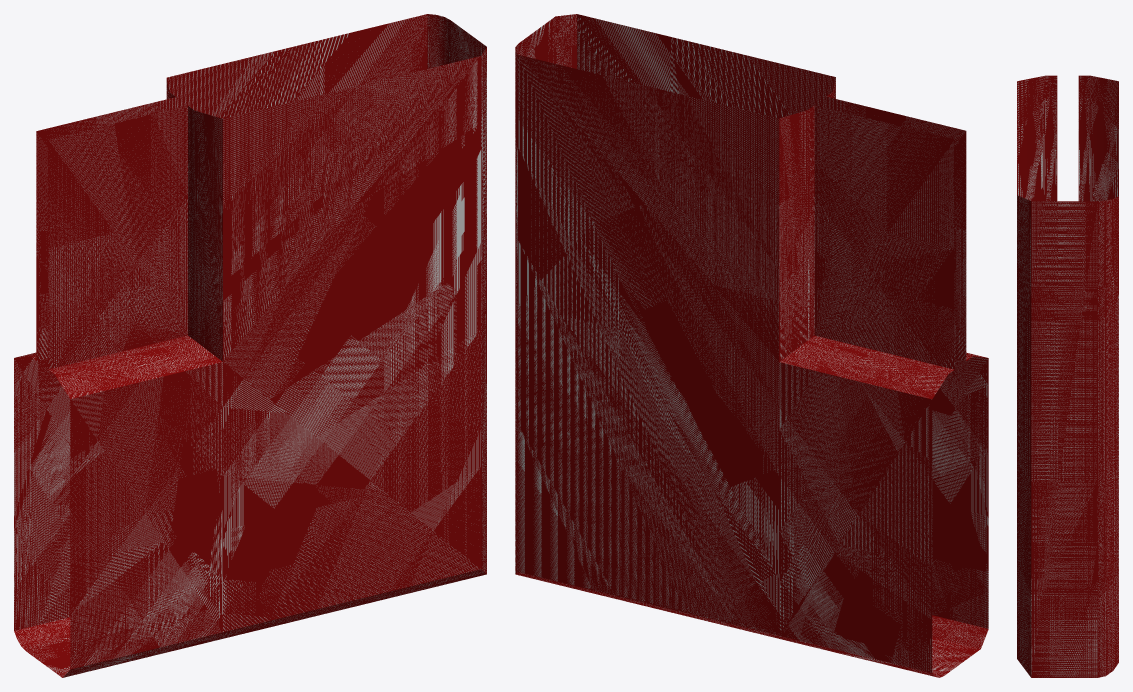
The model's file is original-44.obj.
3 renders of one model, left to right at view 1: azimuth 30°, elevation 25°; view 2: azimuth 150°, elevation 25°; view 3: azimuth 270°, elevation 25°, orthographic. The views are drawn at different scales.
Visible parts, largest first — view 1: RT_21_BR1/RT_21_BR/mesh35/mesh35-geometry#mesh35-geometry; view 2: RT_21_BR1/RT_21_BR/mesh35/mesh35-geometry#mesh35-geometry; view 3: RT_21_BR1/RT_21_BR/mesh35/mesh35-geometry#mesh35-geometry.
Boxes of the visible parts, box(x1,y1,x2,y2) form: RT_21_BR1/RT_21_BR/mesh35/mesh35-geometry#mesh35-geometry: box(14, 14, 486, 677); RT_21_BR1/RT_21_BR/mesh35/mesh35-geometry#mesh35-geometry: box(515, 14, 988, 677); RT_21_BR1/RT_21_BR/mesh35/mesh35-geometry#mesh35-geometry: box(1017, 75, 1118, 677).
Size of the model in its own units: 0.1192 by 0.1416 by 0.0274.
